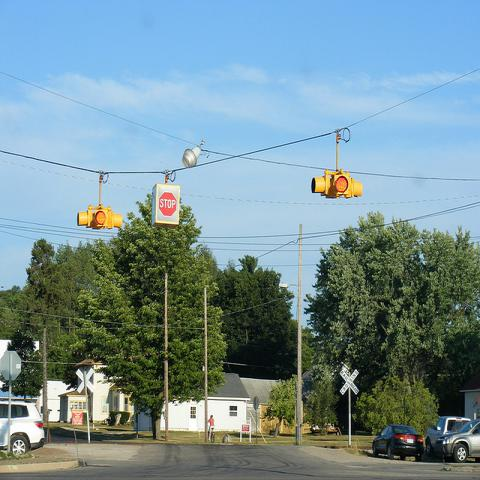car: (1, 401, 44, 456), (434, 418, 479, 462), (373, 425, 424, 461)
truck: (424, 414, 471, 458)
